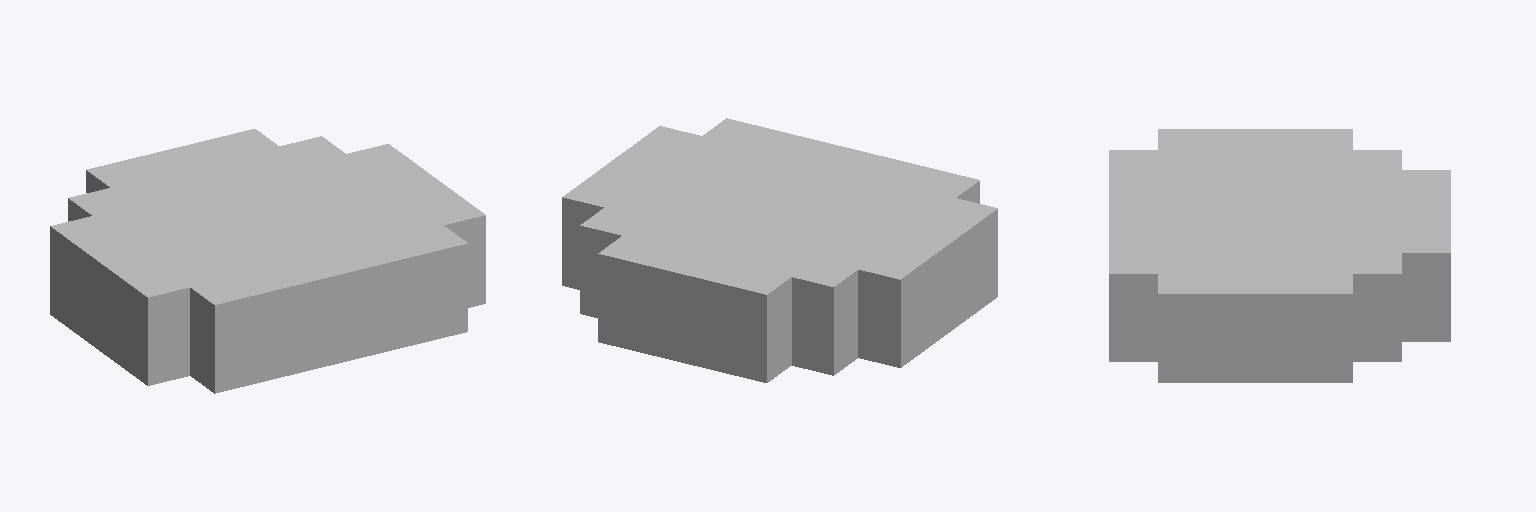
The model's file is belt.obj.
3 renders of one model, left to right at view 1: azimuth 30°, elevation 25°; view 2: azimuth 150°, elevation 25°; view 3: azimuth 270°, elevation 25°, orthographic.
Parts seen in each view (by area): view 1: object 1; view 2: object 1; view 3: object 1.
Part boxes in pixels (bbox=[...]): object 1: bbox=[50, 129, 485, 393]; object 1: bbox=[562, 118, 997, 382]; object 1: bbox=[1109, 129, 1450, 382].
Bounding box in the file's own units: 0.8 × 0.2 × 0.7.